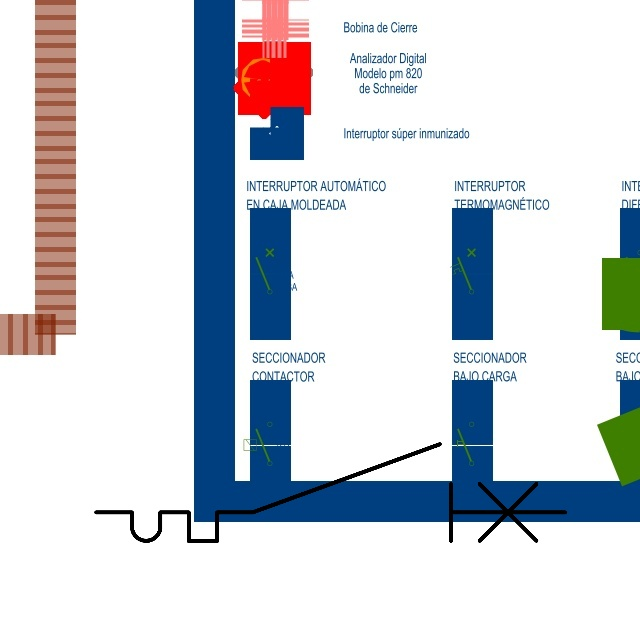interruptor_termomagnetico: (84, 432, 577, 553)
